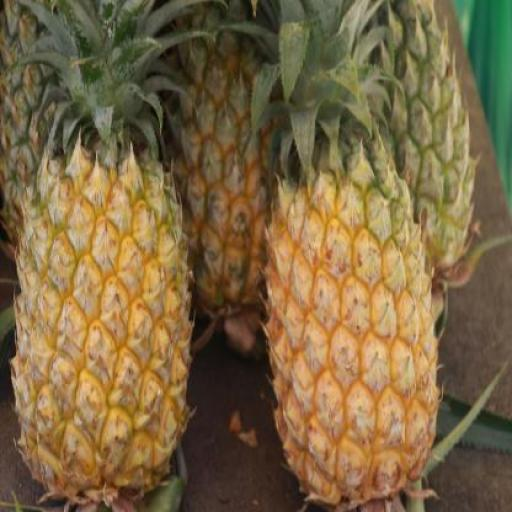Pineapple - v8 v1: (256, 164, 439, 490), (18, 156, 186, 505)
